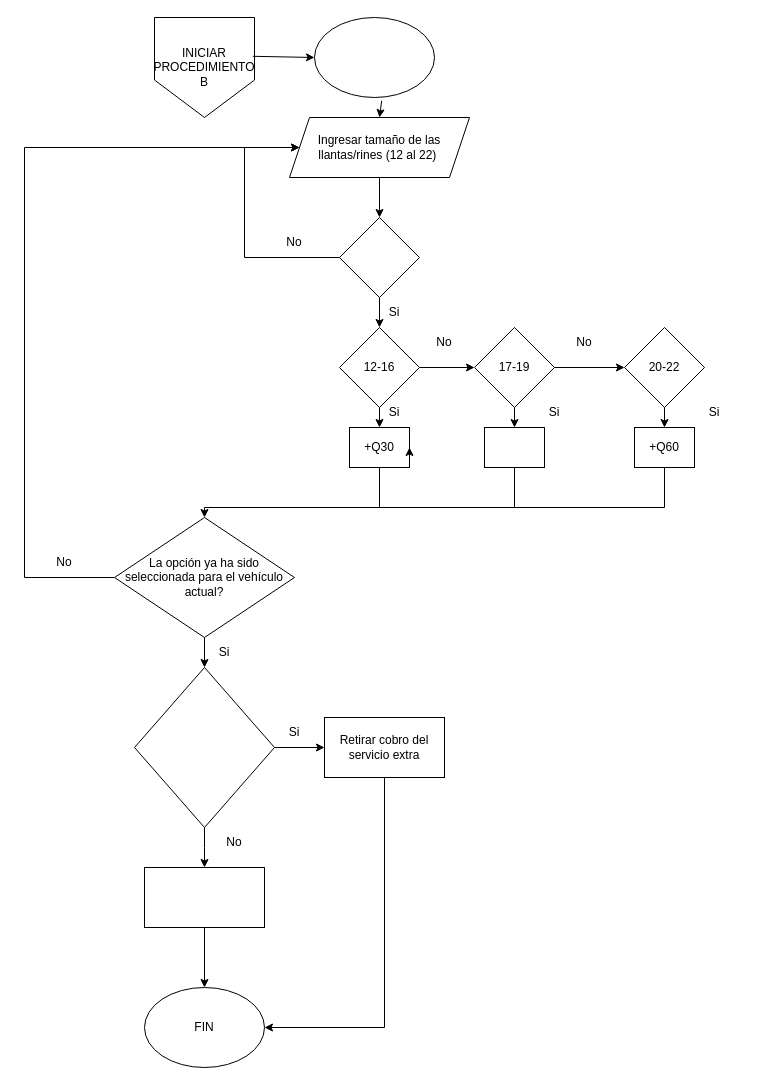
The diagram is 762 pixels wide and 1085 high, and some of its shapes have lost their labels. The box of each missing label's shape, as (x1, y1, x2, y2) in pixels:
+Q40: (484, 426, 544, 468)
Es el numero uno de 12 al 22: (338, 216, 420, 298)
INICIO: (314, 16, 434, 98)
Se desea cancelar el servicio extra?: (134, 666, 274, 828)
Sumar a monto total: (144, 866, 264, 928)
